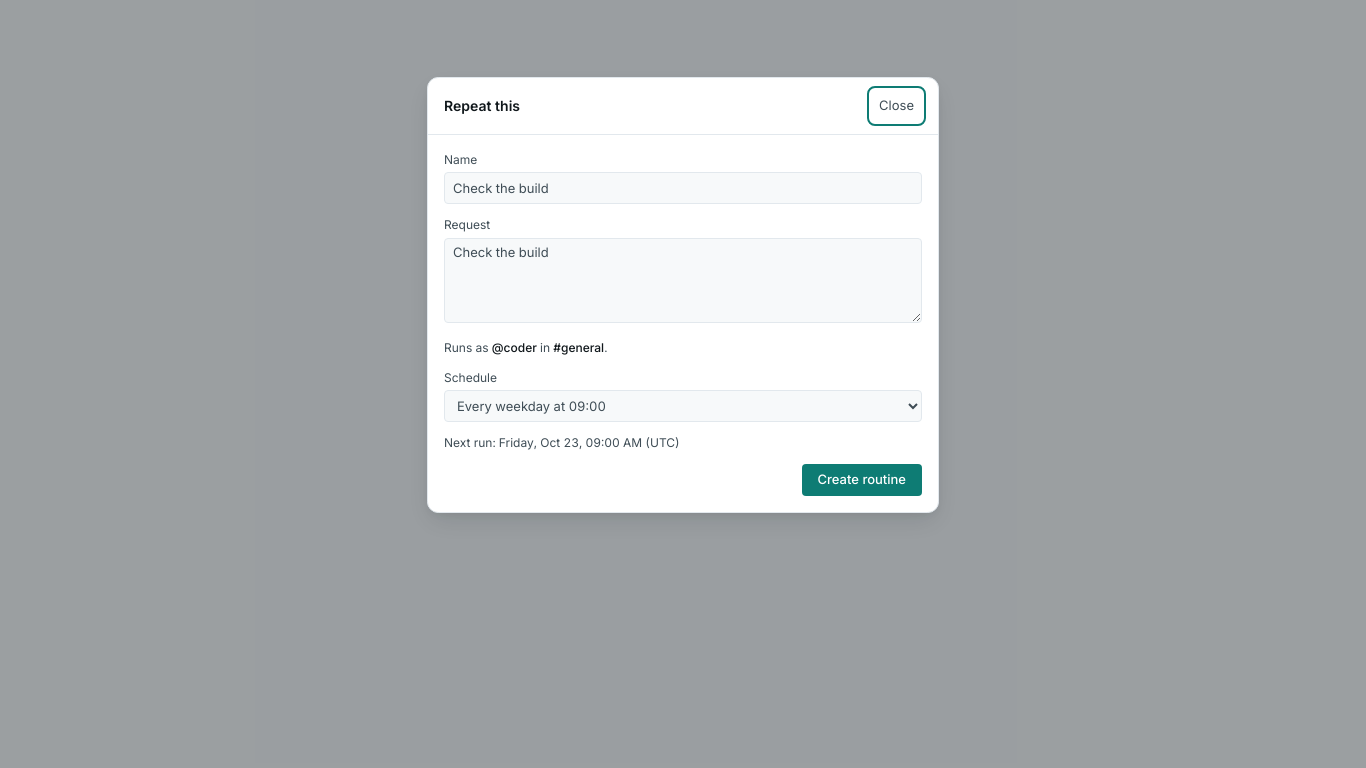
Test: RepeatDialog › does not save without a request
The image size is (1366, 768).
Clear the text box labelled "Request" at (683, 280), box [444, 238, 922, 323]
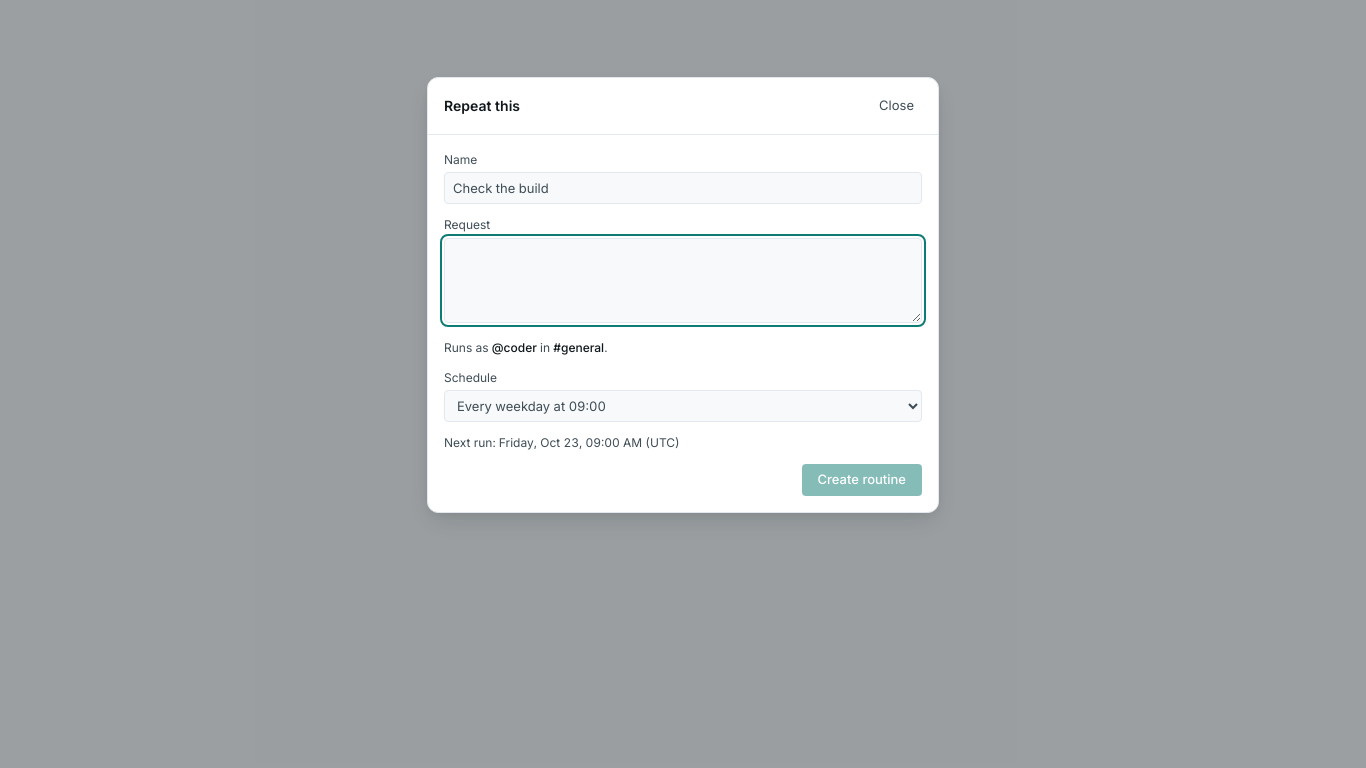
Now the button "Create routine" is disabled, box [802, 464, 922, 496]
